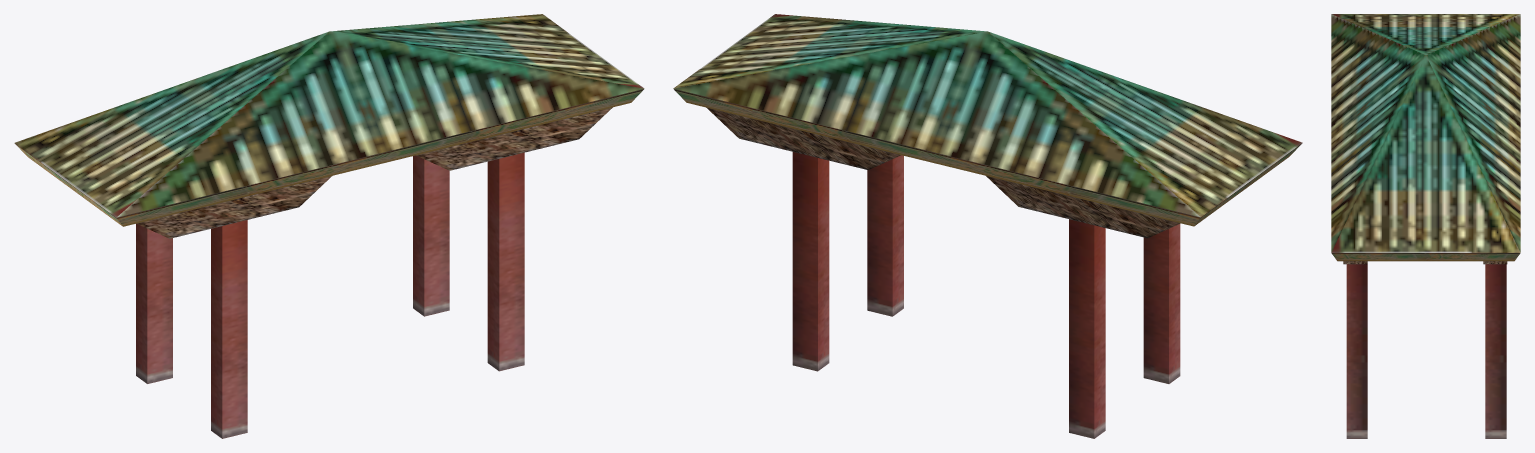
The model's file is USA - Prop - Ancient Wooden Gate 01 - PAWdGate.glb.
3 renders of one model, left to right at view 1: azimuth 30°, elevation 25°; view 2: azimuth 150°, elevation 25°; view 3: azimuth 270°, elevation 25°, orthographic. The views are drawn at different scales.
Parts seen in each view (by area): view 1: PAWDGATE; view 2: PAWDGATE; view 3: PAWDGATE.
Part boxes in pixels (x1=…): PAWDGATE: x1=14, y1=14, x2=644, y2=438; PAWDGATE: x1=673, y1=14, x2=1302, y2=438; PAWDGATE: x1=1331, y1=14, x2=1520, y2=438.
Bounding box in the file's own units: 45.91 × 28.2 × 15.37.
1 material, 1 textured.
